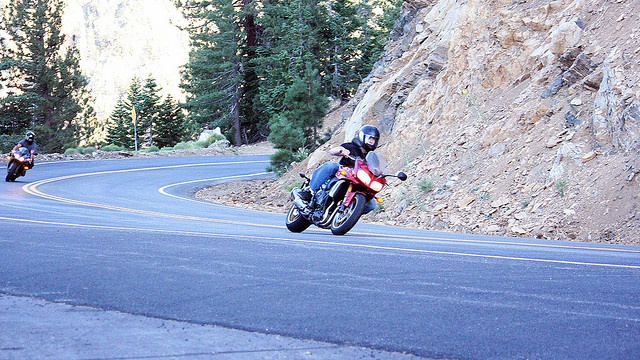non-vehicle: (284, 149, 408, 235), (4, 140, 37, 181)
